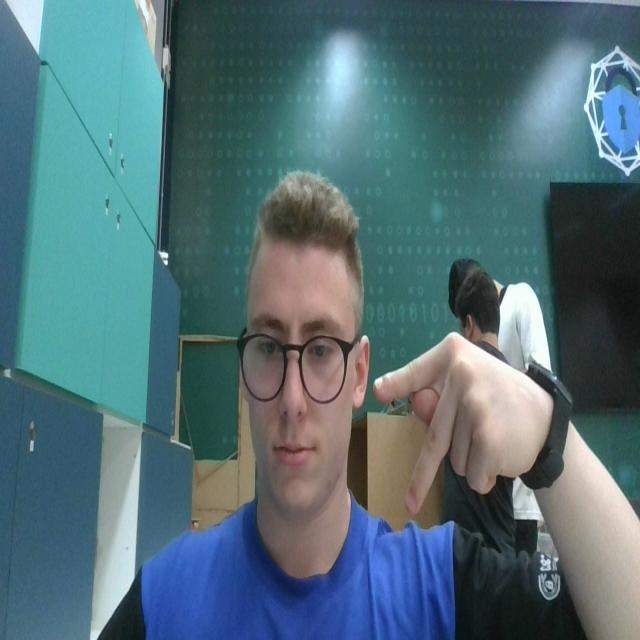P: (371, 325, 532, 519)
